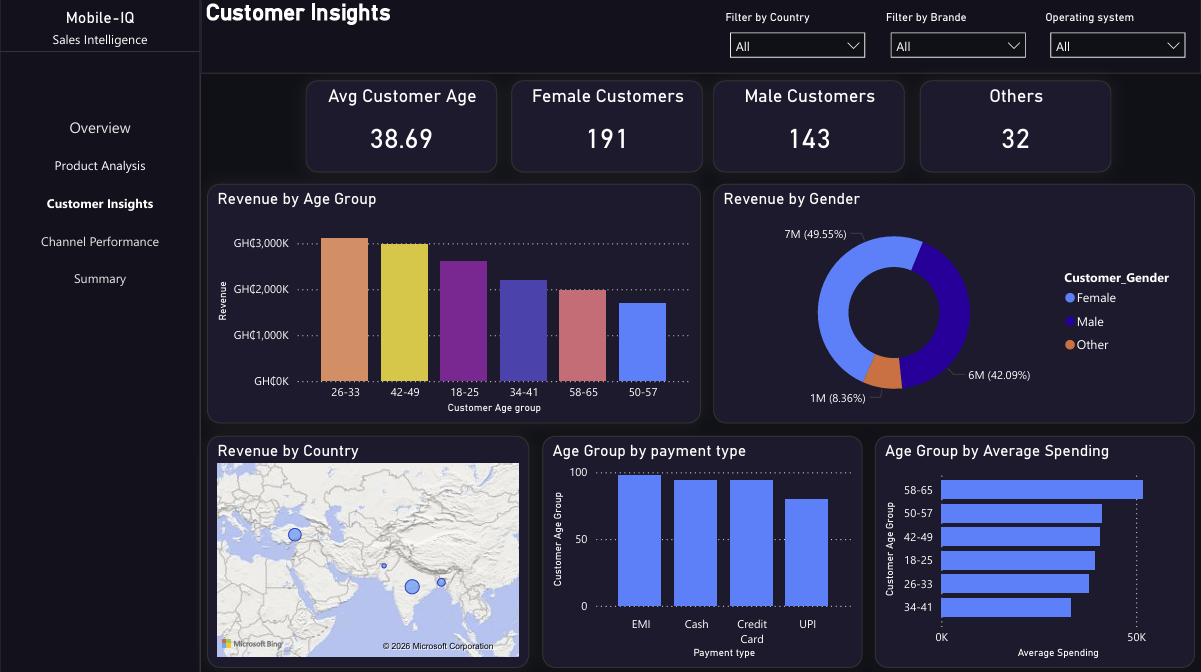

This screenshot's page, from the dashboard's own definition file:
{"tool":"powerbi","page":{"name":"Customer Insights Page","canvas":[1280,720],"ordinal":2},"visuals":[{"type":"columnChart","title":"Revenue by Age Group","fields":{"Y":["Sum(Fact_Sales.Total_Revenue)"],"Category":["Fact_Sales.Customer_Age_Group"]},"box":[221.1,197.2,526.5,237],"z":0},{"type":"card","title":"Avg Customer Age","fields":{"Values":["Fact_Sales.Average customer age"]},"box":[326,87,204,98],"z":1000},{"type":"card","title":"Female Customers","fields":{"Values":["Fact_Sales.Female Customers"]},"box":[545,87,204,98],"z":2000},{"type":"card","title":"Male Customers","fields":{"Values":["Fact_Sales.male Customers"]},"box":[760,87,204,98],"z":3000},{"type":"donutChart","title":"Revenue by Gender","fields":{"Y":["Fact_Sales.Overal revenue"],"Series":["Fact_Sales.Customer_Gender"]},"box":[760.3,197.2,512.2,237],"z":4000},{"type":"shape","box":[0,0,214,720],"z":5000},{"type":"actionButton","box":[12.5,115.5,188.1,40.3],"z":6000},{"type":"actionButton","box":[12.5,155.8,188.1,41.2],"z":7000},{"type":"actionButton","box":[12.5,197,188.1,40.3],"z":8000},{"type":"actionButton","box":[12.5,237.3,188.1,40.3],"z":9000},{"type":"actionButton","title":"Mobile-IQ","box":[0,10,214,70],"z":10000},{"type":"textbox","title":"Customer Insights","box":[214,0,1066,80],"z":11000},{"type":"slicer","title":"Filter by Country","fields":{"Values":["Fact_Sales.Country"]},"box":[768,13,164,53],"z":12000},{"type":"slicer","title":"Filter by Brande","fields":{"Values":["Fact_Sales.Brand"]},"box":[939,13,164,53],"z":13000},{"type":"slicer","title":"Operating system","fields":{"Values":["Fact_Sales.Operating_System"]},"box":[1109,13,164,53],"z":14000},{"type":"columnChart","title":"Age Group by payment type","fields":{"Y":["CountNonNull(Fact_Sales.Customer_Age_Group)"],"Category":["Fact_Sales.Payment_Type"]},"box":[221,445,368,264],"z":15000},{"type":"card","title":"Others","fields":{"Values":["Fact_Sales.Others Customers"]},"box":[980,87,204,98],"z":16000},{"type":"clusteredBarChart","title":"Age Group by Average Spending","fields":{"Category":["Fact_Sales.Customer_Age_Group"],"Y":["Fact_Sales.Average Spending"]},"box":[601,445,679,264],"z":18000},{"type":"actionButton","box":[13,277,188,41],"z":19000}]}

Visuals, with their boxes on the page's 1280x720 design canvas (x1, y1, x2, y2). These are canvas units, not pixel positions in the 1201x672 screenshot, which may show the page scaled, cropped or inside an application window:
"Revenue by Age Group" columnChart: (221, 197, 748, 434)
"Avg Customer Age" card: (326, 87, 530, 185)
"Female Customers" card: (545, 87, 749, 185)
"Male Customers" card: (760, 87, 964, 185)
"Revenue by Gender" donutChart: (760, 197, 1272, 434)
shape: (0, 0, 214, 720)
actionButton: (12, 116, 201, 156)
actionButton: (12, 156, 201, 197)
actionButton: (12, 197, 201, 237)
actionButton: (12, 237, 201, 278)
"Mobile-IQ" actionButton: (0, 10, 214, 80)
"Customer Insights" textbox: (214, 0, 1280, 80)
"Filter by Country" slicer: (768, 13, 932, 66)
"Filter by Brande" slicer: (939, 13, 1103, 66)
"Operating system" slicer: (1109, 13, 1273, 66)
"Age Group by payment type" columnChart: (221, 445, 589, 709)
"Others" card: (980, 87, 1184, 185)
"Age Group by Average Spending" clusteredBarChart: (601, 445, 1280, 709)
actionButton: (13, 277, 201, 318)
